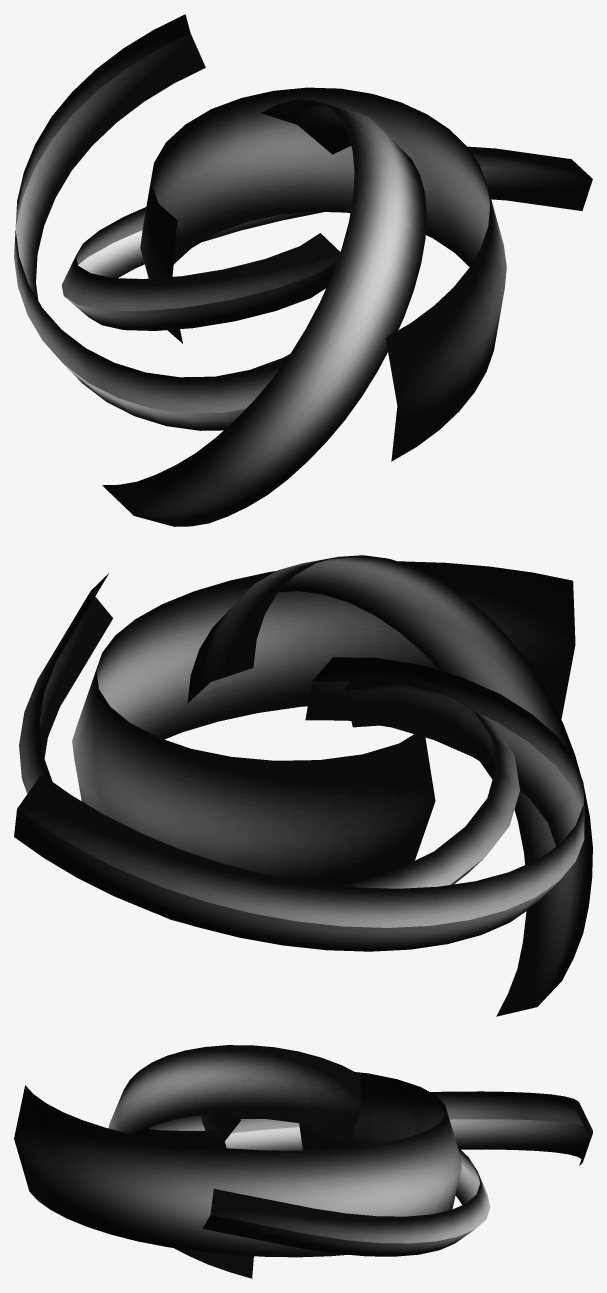
File: vfx_kurp_0726.dae
3 renders of one model, top to bottom at view 1: azimuth 30°, elevation 25°; view 2: azimuth 150°, elevation 25°; view 3: azimuth 270°, elevation 25°, orthographic. The views are drawn at different scales.
Visible parts, largest first — view 1: vfx_kurp_0726; view 2: vfx_kurp_0726; view 3: vfx_kurp_0726.
Boxes of the visible parts, x1,y1,x2,y2 form: vfx_kurp_0726: (14, 14, 592, 526); vfx_kurp_0726: (14, 555, 592, 1016); vfx_kurp_0726: (14, 1045, 592, 1278).
Bounding box in the file's own units: 11.01 × 14.62 × 8.31.
1 material, 1 textured.
